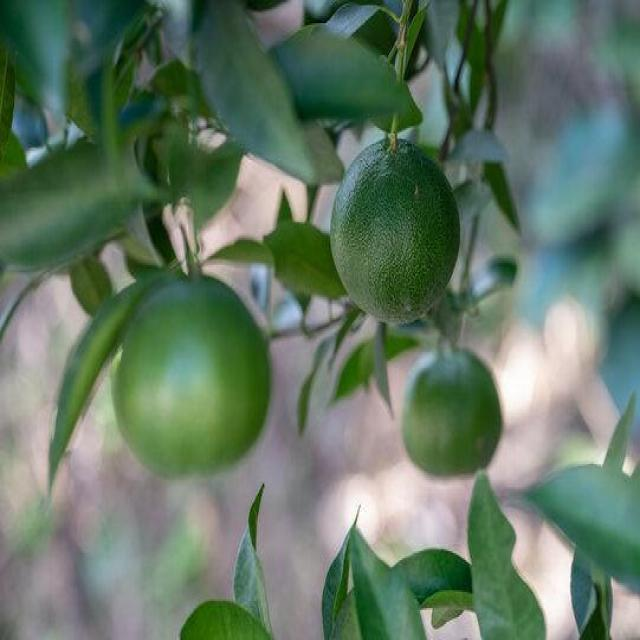Jeruk Belum Matang: (113, 276, 271, 477), (329, 137, 462, 327), (403, 350, 503, 482)
